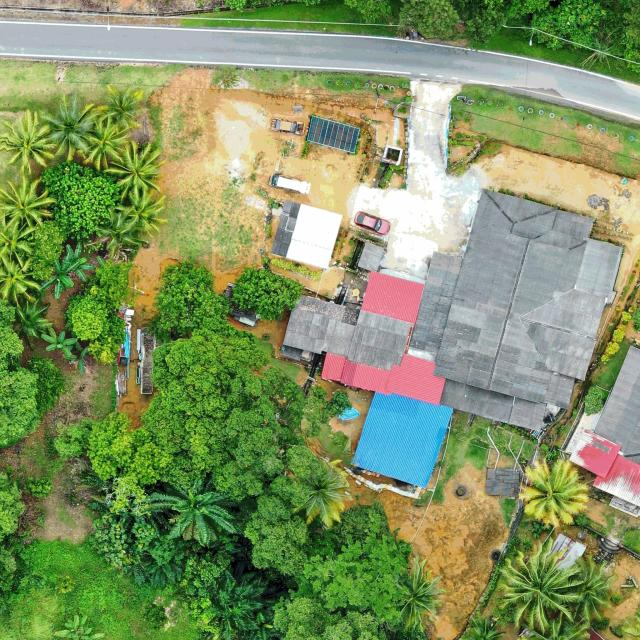Tree: (140, 324, 283, 504), (301, 531, 412, 623), (86, 411, 175, 516), (144, 466, 240, 551), (494, 543, 582, 635), (41, 160, 124, 240), (244, 494, 310, 578), (272, 593, 387, 640), (200, 566, 270, 639), (34, 91, 104, 161), (520, 459, 589, 528), (154, 260, 217, 334), (290, 462, 352, 531), (230, 265, 304, 322), (106, 138, 166, 202), (388, 563, 446, 629), (566, 556, 620, 625), (0, 110, 58, 174), (0, 171, 56, 231), (63, 286, 110, 342), (24, 219, 66, 280), (83, 118, 131, 170), (119, 188, 169, 237), (0, 255, 43, 306), (96, 210, 140, 259), (103, 82, 146, 132), (10, 296, 54, 342), (88, 313, 127, 364), (93, 258, 131, 310), (0, 213, 35, 263), (37, 257, 75, 300), (63, 240, 96, 283), (52, 614, 105, 640), (42, 327, 80, 361), (582, 386, 606, 417)
